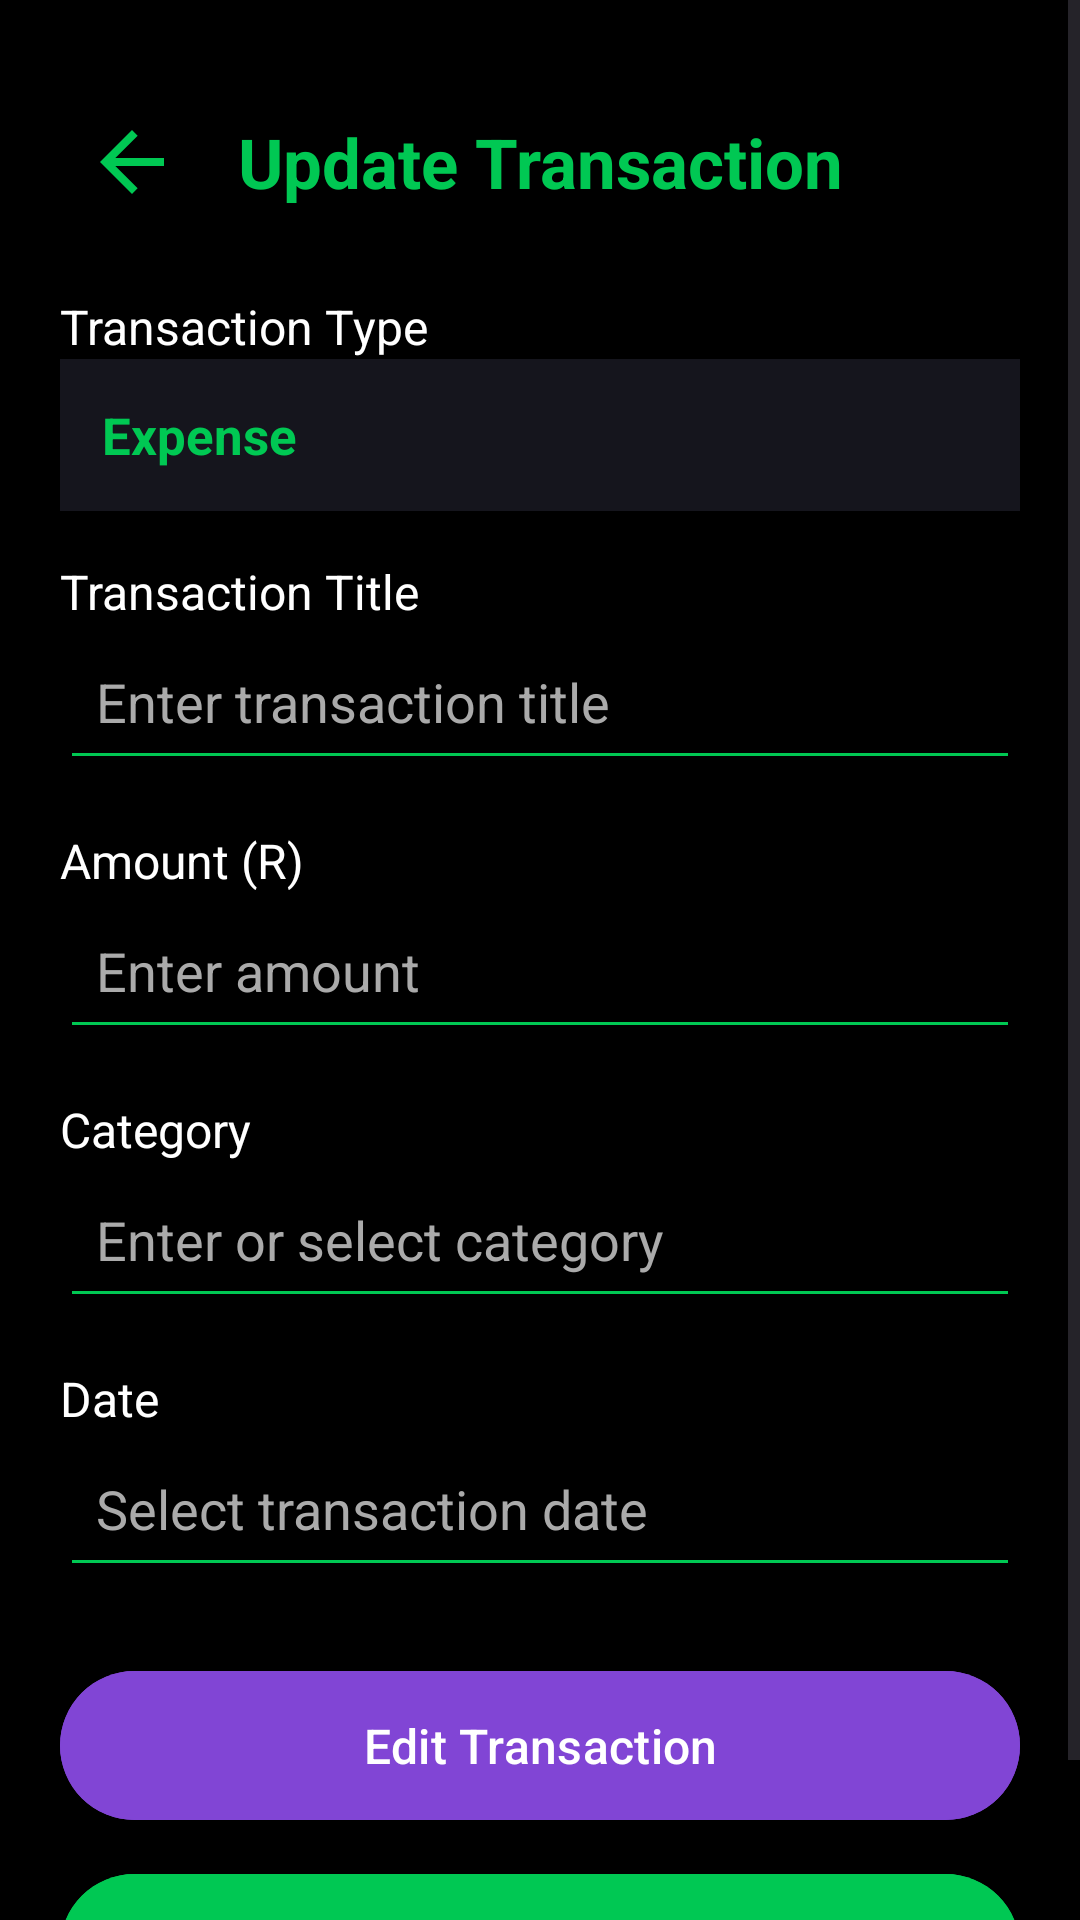

Icons on this 1080 × 1920 Android screen, each with its box as (x1, y1, x2, y2):
Back: (100, 130, 164, 194)
